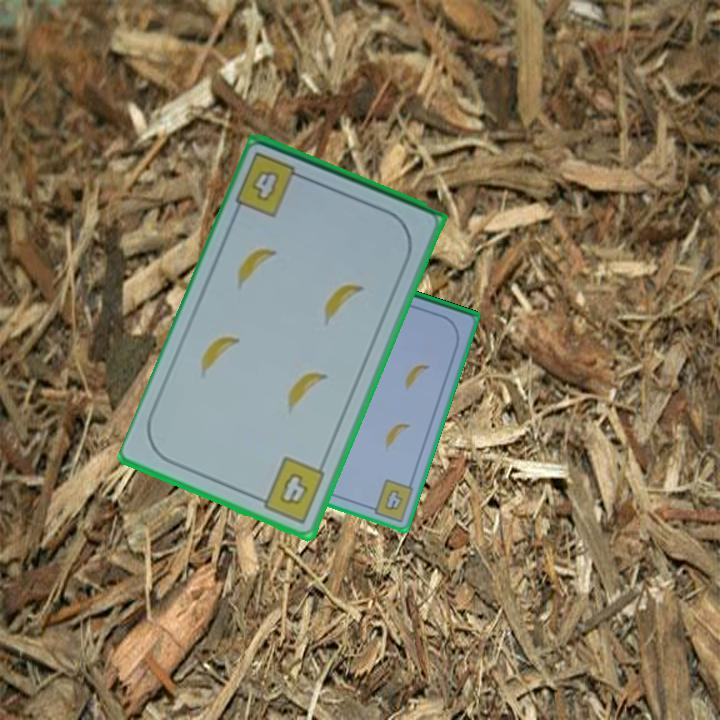4b: (251, 453, 329, 527), (232, 149, 311, 220), (365, 476, 417, 525)
